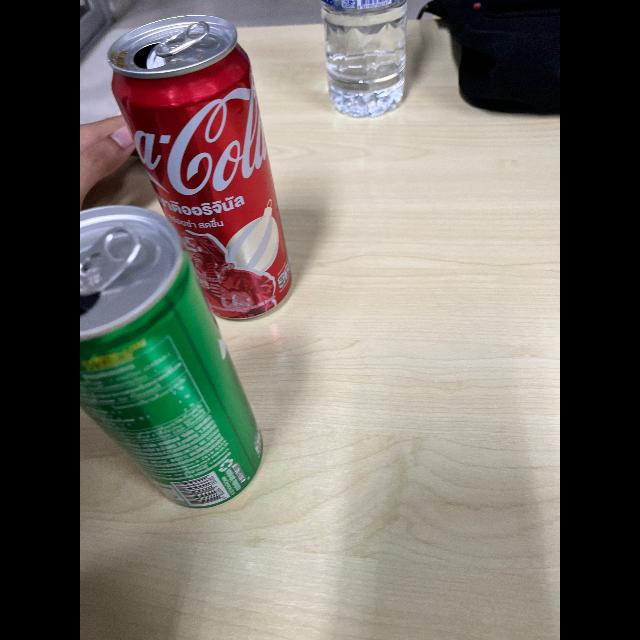can: (80, 211, 296, 523), (105, 18, 312, 324)
